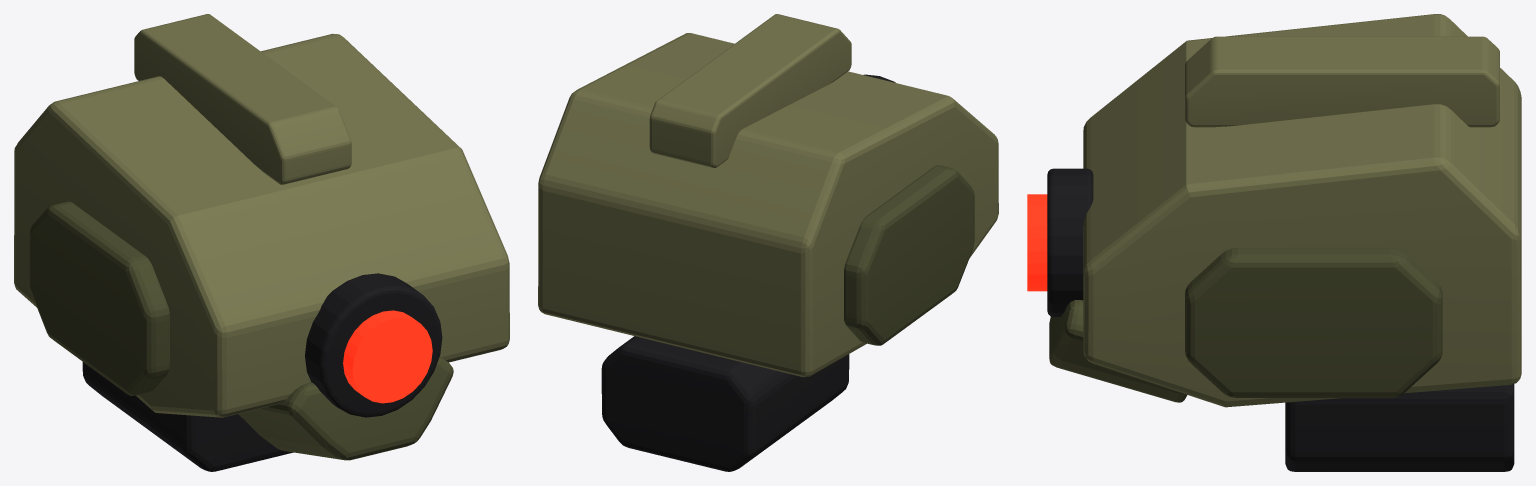
The model's file is recon_gen_head.glb.
3 views of the same model, side by side, from view 1: azimuth 30°, elevation 25°; view 2: azimuth 150°, elevation 25°; view 3: azimuth 270°, elevation 25° (orthographic). The views are drawn at different scales.
Visible parts, largest first — view 1: Helmet, Crest, HelmetSide1, Chin, EyeRing, Neck, Eye; view 2: Helmet, Neck, Crest, HelmetSide1; view 3: Helmet, HelmetSide, Crest, Neck, EyeRing, Chin, Eye.
Boxes of the visible parts, bbox=[...] form: Helmet: bbox=[14, 33, 509, 417]; Crest: bbox=[134, 14, 351, 184]; HelmetSide1: bbox=[29, 201, 169, 395]; Chin: bbox=[238, 356, 453, 460]; EyeRing: bbox=[305, 273, 442, 417]; Neck: bbox=[82, 362, 293, 471]; Eye: bbox=[343, 310, 432, 403]; Helmet: bbox=[538, 33, 998, 377]; Neck: bbox=[601, 336, 849, 471]; Crest: bbox=[649, 14, 851, 167]; HelmetSide1: bbox=[844, 165, 974, 345]; Helmet: bbox=[1083, 14, 1521, 407]; HelmetSide: bbox=[1185, 248, 1442, 397]; Crest: bbox=[1185, 36, 1499, 127]; Neck: bbox=[1285, 384, 1514, 471]; EyeRing: bbox=[1047, 168, 1093, 316]; Chin: bbox=[1049, 300, 1187, 402]; Eye: bbox=[1027, 194, 1047, 291].
Size of the model in its own units: 1.44 by 1.5 by 1.73.
